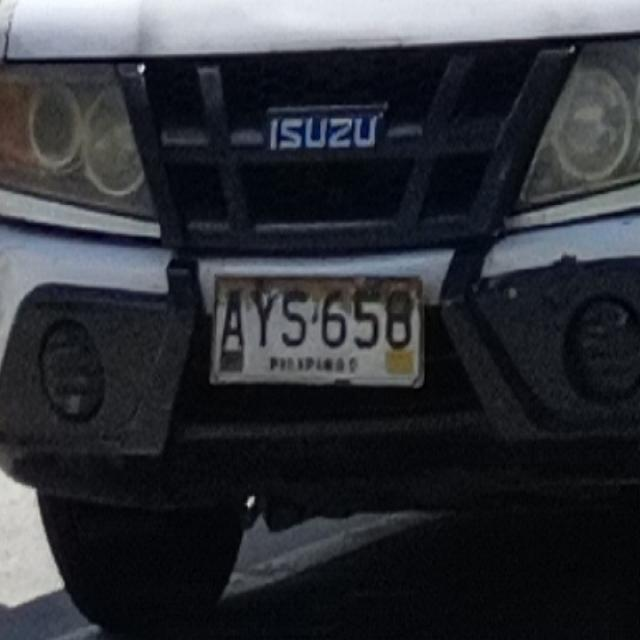LicensePlate: (200, 260, 440, 401)
